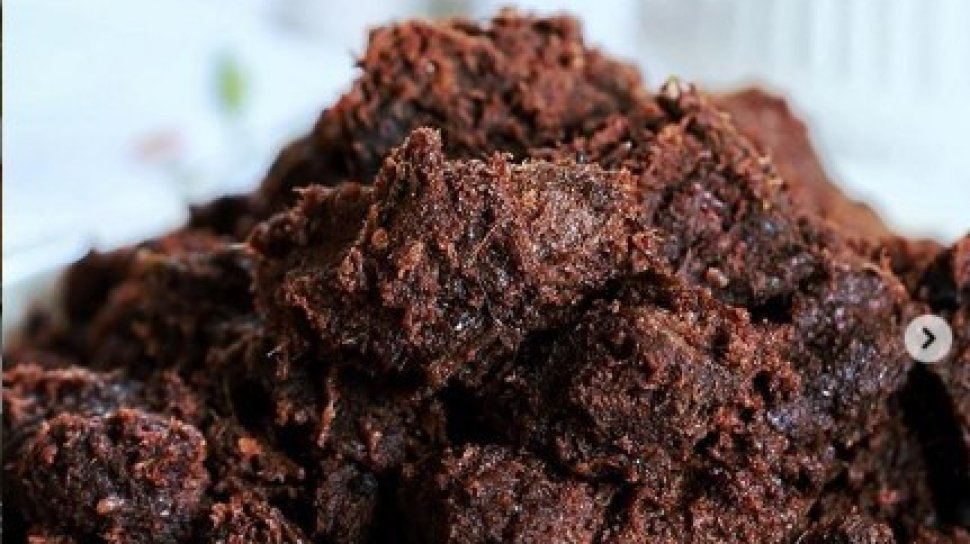rendang: (4, 12, 966, 538)
